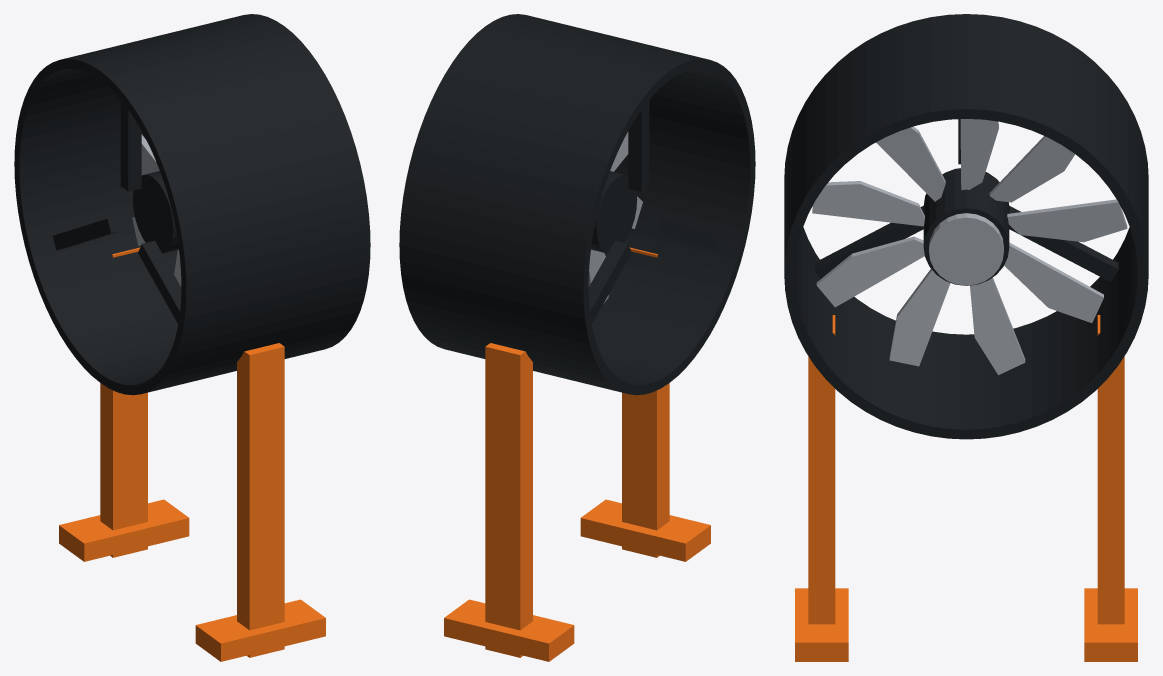
The model's file is ducted_fan.glb.
3 renders of one model, left to right at view 1: azimuth 30°, elevation 25°; view 2: azimuth 150°, elevation 25°; view 3: azimuth 270°, elevation 25°, orthographic. The views are drawn at different scales.
Visible parts, largest first — view 1: edf_rubber_and_chip, edf_petg, rotor_rubber_and_chip, rotor_steel; view 2: edf_rubber_and_chip, edf_petg, rotor_rubber_and_chip, rotor_steel; view 3: edf_rubber_and_chip, rotor_steel, edf_petg, rotor_rubber_and_chip.
Part boxes in pixels (x1,y1,x2,y2): edf_rubber_and_chip: (14,14,370,395); edf_petg: (59,247,325,661); rotor_rubber_and_chip: (132,171,178,253); rotor_steel: (132,134,181,286); edf_rubber_and_chip: (399,14,755,395); edf_petg: (444,247,710,661); rotor_rubber_and_chip: (591,171,637,253); rotor_steel: (588,131,642,303); edf_rubber_and_chip: (784,14,1148,439); rotor_steel: (812,119,1127,374); edf_petg: (795,315,1137,661); rotor_rubber_and_chip: (923,168,1009,285).
Bounding box in the file's own units: 0.42 × 1.2 × 0.68.
